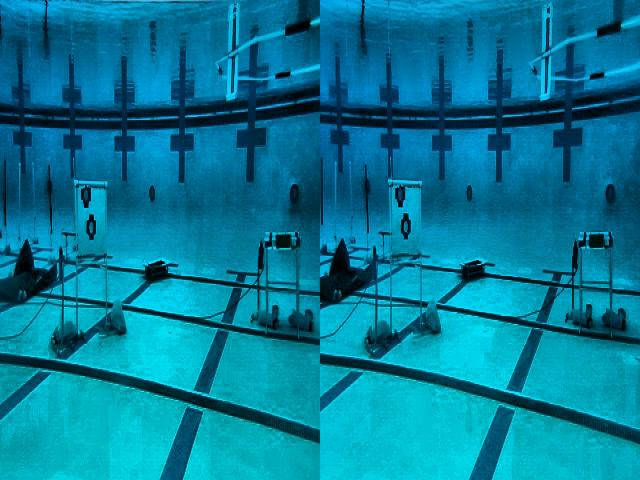octagon_table: (253, 228, 315, 342), (566, 227, 627, 340)
octagon_top: (531, 16, 640, 104), (217, 17, 321, 100)
path_marker: (377, 228, 410, 270), (60, 229, 93, 270)
